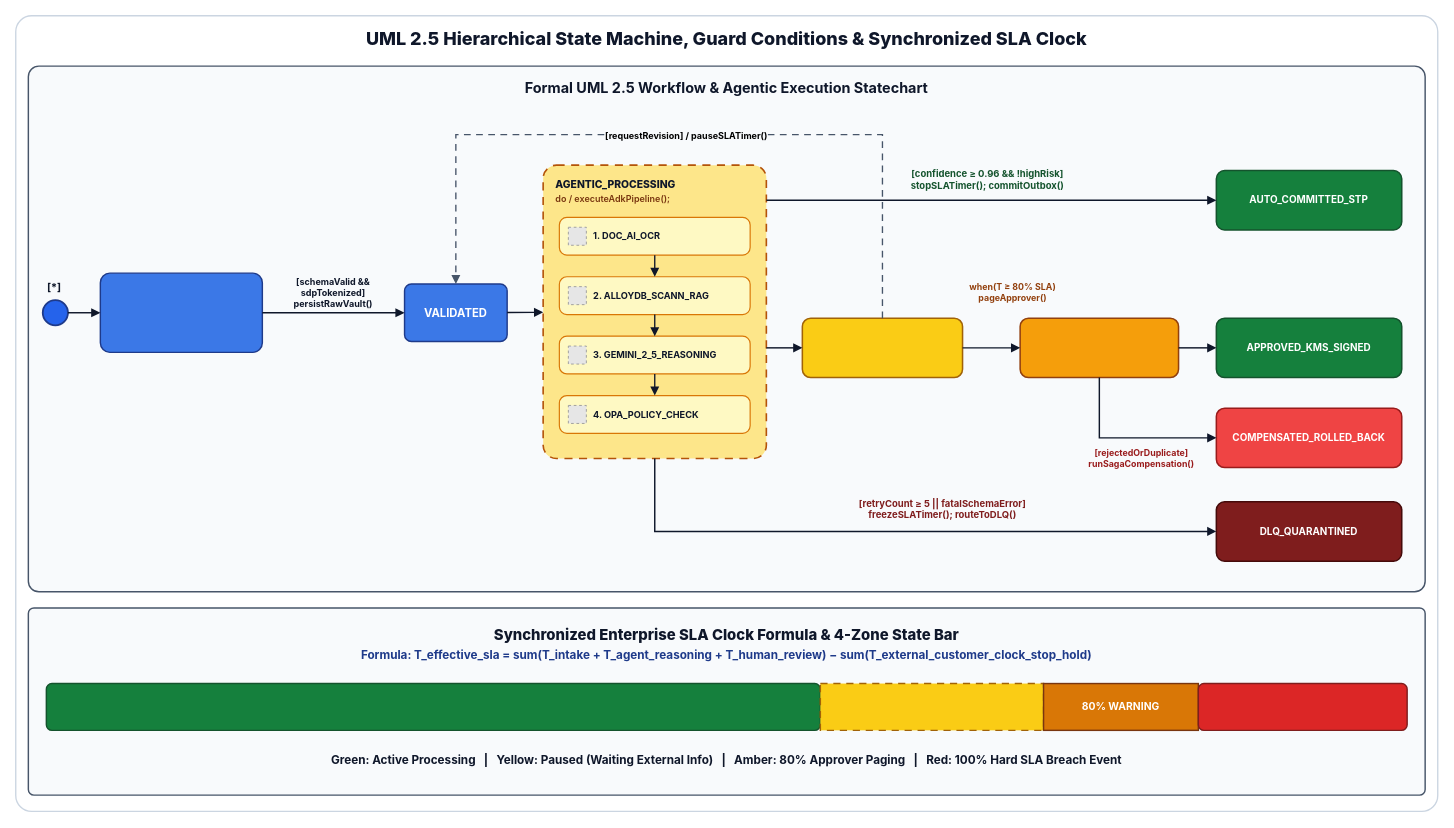
The diagram is 1454 pixels wide and 828 high, and some of its shapes have lost their labels. Grey dashed boxes stand in for pictures. Each missing label, with the centre of its shape:
0% – 80% ACTIVE SLA BUDGET: the point at 433,706
100% BREACH: the point at 1302,706
INGESTED entry / initSLATimer(tierPolicy); emit RequestReceived: the point at 181,312
PAUSED (CLOCK-STOP): the point at 931,706
SLA_ESCALATED_APPROVER: the point at 1099,347
WAITING_HUMAN_HITL: the point at 882,347
